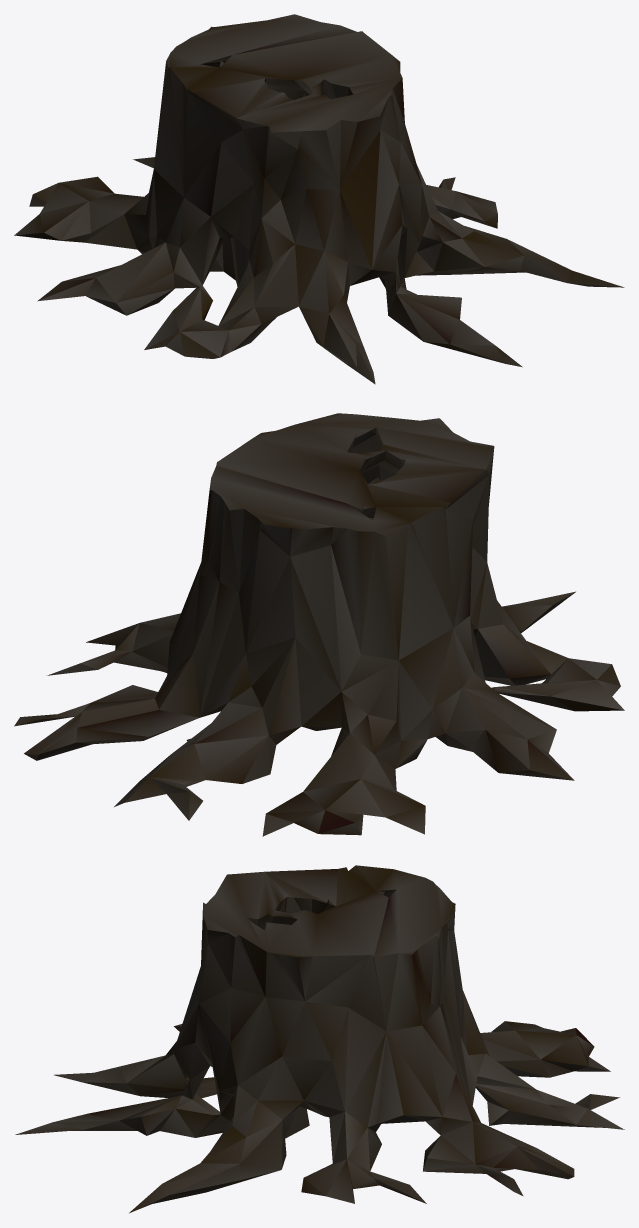
The model's file is ebony_stump.glb.
The picture shows the model from 3 angles, top to bottom: view 1: azimuth 30°, elevation 25°; view 2: azimuth 150°, elevation 25°; view 3: azimuth 270°, elevation 25°; orthographic projection. The views are drawn at different scales.
Visible parts, largest first — view 1: Stump; view 2: Stump; view 3: Stump.
Boxes of the visible parts, x1,y1,x2,y2 form: Stump: (14,14,624,384); Stump: (14,413,624,836); Stump: (15,865,624,1213).
Bounding box in the file's own units: 2.07 × 0.9147 × 2.46.
